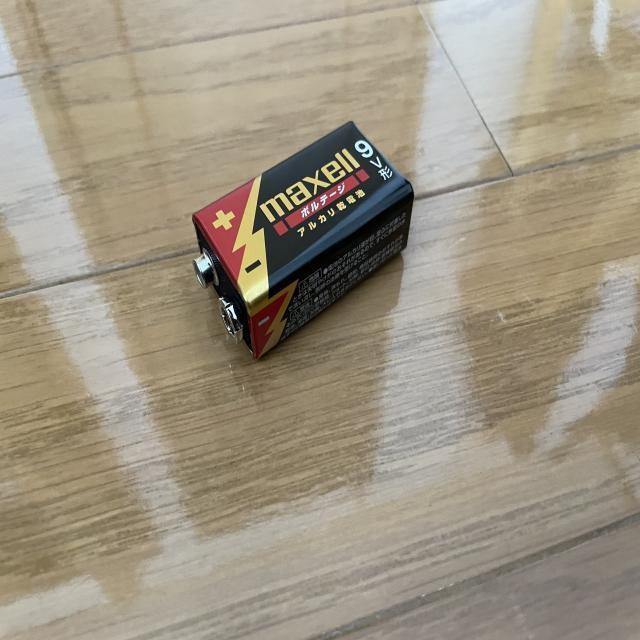9V: (190, 121, 414, 363)
